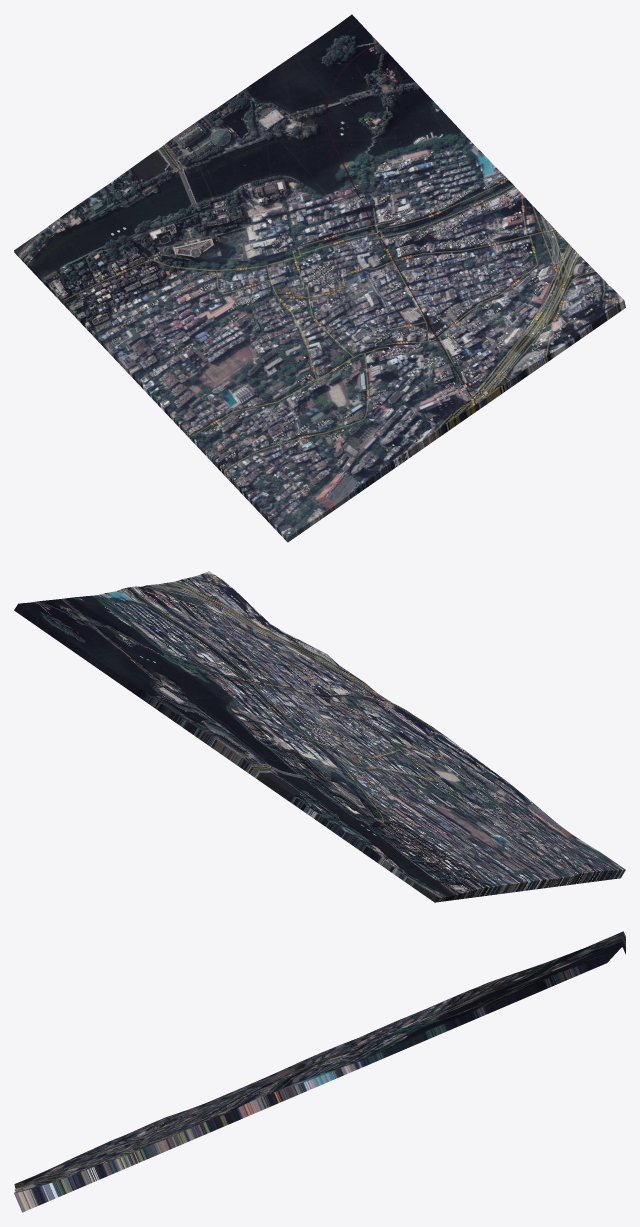
3 views of the same model, one above another, from view 1: azimuth 30°, elevation 25°; view 2: azimuth 150°, elevation 25°; view 3: azimuth 270°, elevation 25° (orthographic). The views are drawn at different scales.
Parts seen in each view (by area): view 1: 1_5_8; view 2: 1_5_8; view 3: 1_5_8.
Part boxes in pixels (bbox=[...]): 1_5_8: bbox=[14, 14, 625, 542]; 1_5_8: bbox=[14, 571, 625, 902]; 1_5_8: bbox=[14, 931, 625, 1212].
Bounding box in the file's own units: 1227 × 898 × 1134.
Materials: 1 (1 with a texture image).
